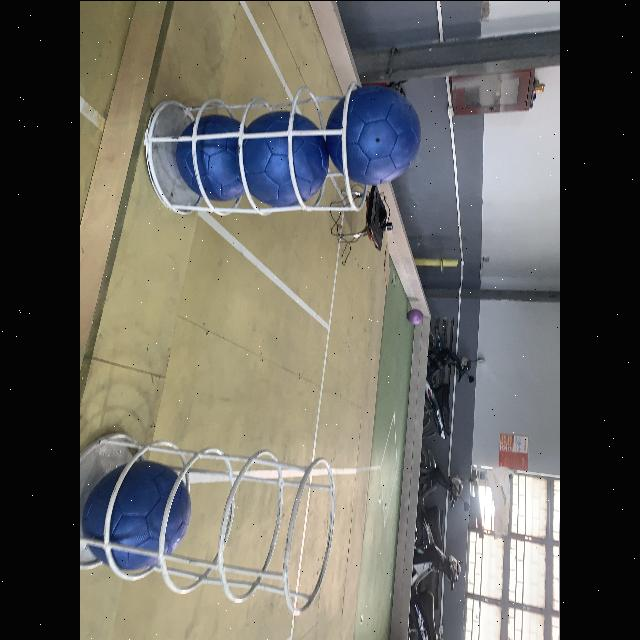B: (82, 460, 192, 572), (329, 85, 423, 183), (245, 112, 331, 206), (178, 114, 248, 200)
